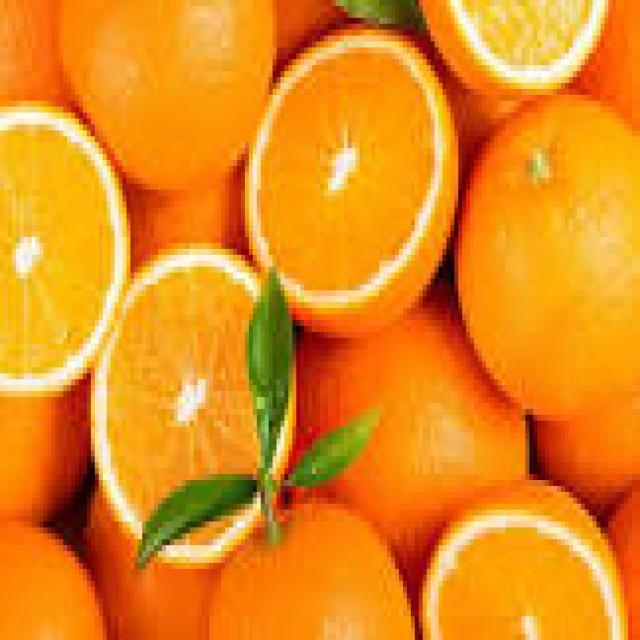orange: (246, 28, 458, 336), (456, 94, 634, 422), (61, 0, 276, 191), (108, 266, 256, 518), (0, 103, 129, 366), (420, 482, 628, 639), (210, 502, 415, 639), (421, 0, 609, 96)
